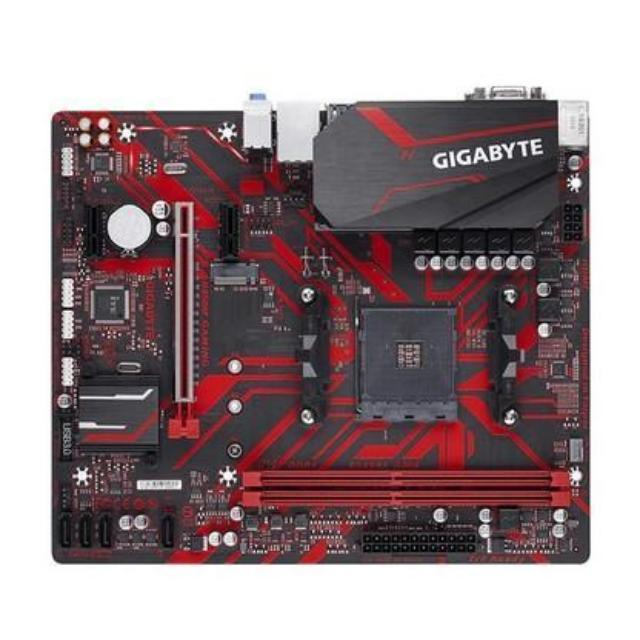Mainboard: (46, 98, 600, 580)
